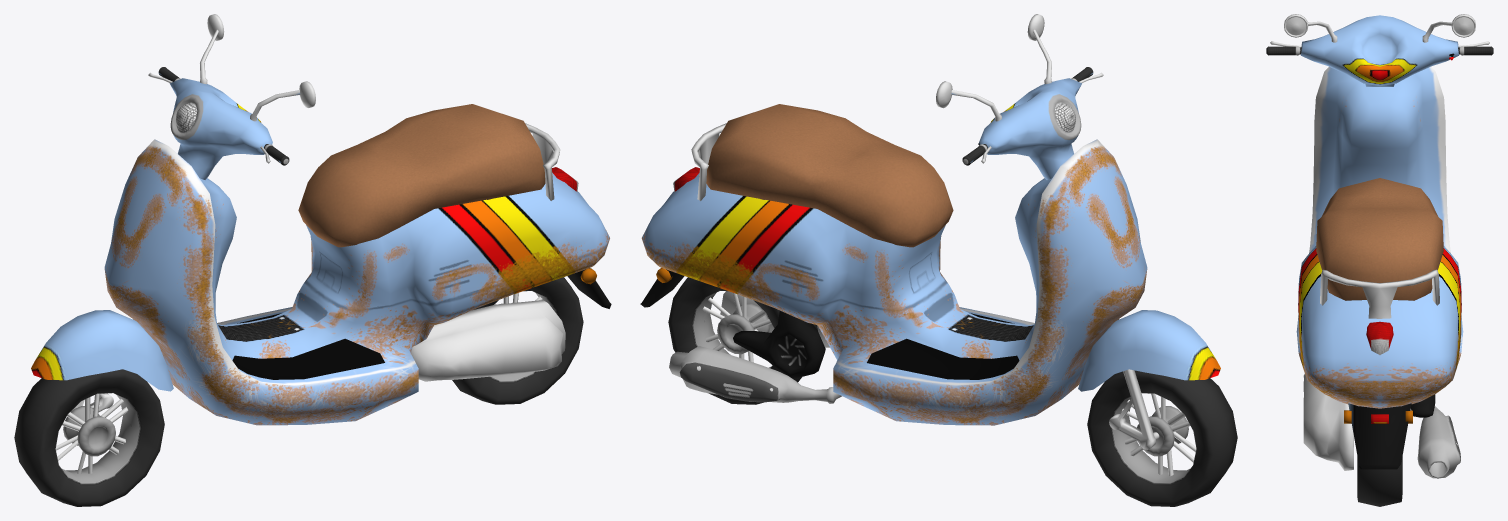
The model's file is scooter_simple.glb.
3 views of the same model, side by side, from view 1: azimuth 30°, elevation 25°; view 2: azimuth 150°, elevation 25°; view 3: azimuth 270°, elevation 25° (orthographic). The views are drawn at different scales.
Parts seen in each view (by area): view 1: lowpolybase.002; view 2: lowpolybase.002; view 3: lowpolybase.002.
Part boxes in pixels (x1,y1,x2,y2): lowpolybase.002: (14,14,611,506); lowpolybase.002: (640,14,1237,506); lowpolybase.002: (1266,14,1493,506).
Bounding box in the file's own units: 3.72 × 2.52 × 1.38.
1 material, 1 textured.
